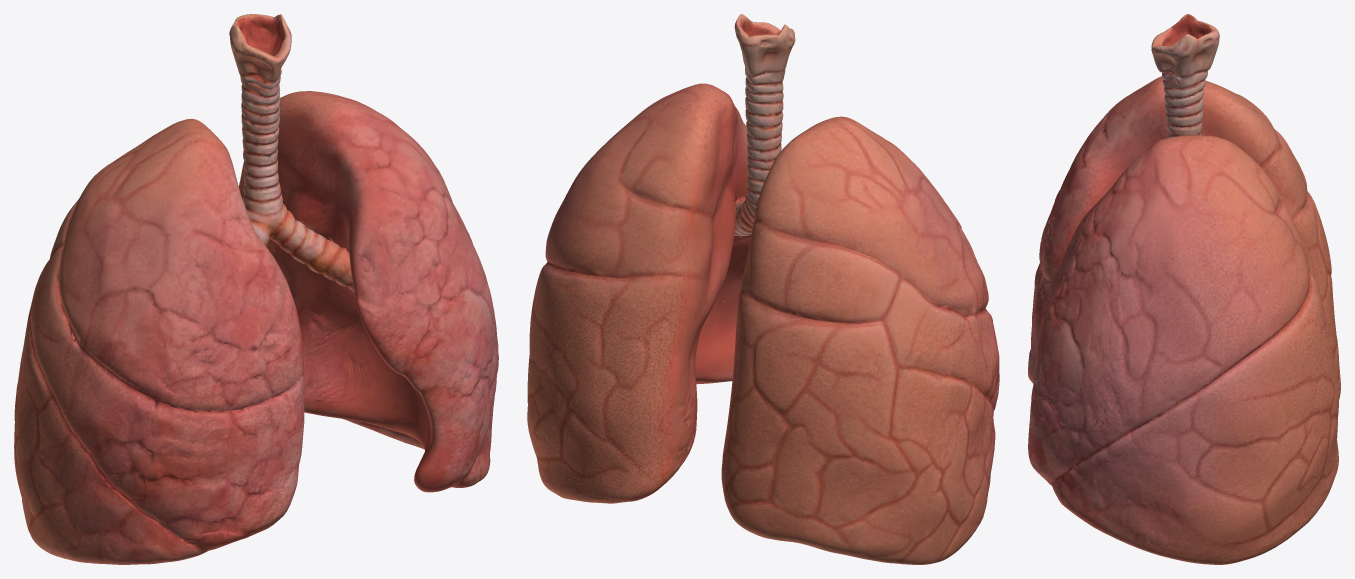
Rendered from lungs.glb.
3 views of the same model, side by side, from view 1: azimuth 30°, elevation 25°; view 2: azimuth 150°, elevation 25°; view 3: azimuth 270°, elevation 25° (orthographic). The views are drawn at different scales.
Visible parts, largest first — view 1: tripo_node_a2c7b654-b225-4f4d-9d04-c8d7d752252c; view 2: tripo_node_a2c7b654-b225-4f4d-9d04-c8d7d752252c; view 3: tripo_node_a2c7b654-b225-4f4d-9d04-c8d7d752252c.
Part boxes in pixels (x1,y1,x2,y2): tripo_node_a2c7b654-b225-4f4d-9d04-c8d7d752252c: [14, 14, 498, 564]; tripo_node_a2c7b654-b225-4f4d-9d04-c8d7d752252c: [527, 14, 999, 564]; tripo_node_a2c7b654-b225-4f4d-9d04-c8d7d752252c: [1028, 14, 1340, 564].
Bounding box in the file's own units: 29573 × 32086 × 20089.
1 material, 1 textured.
